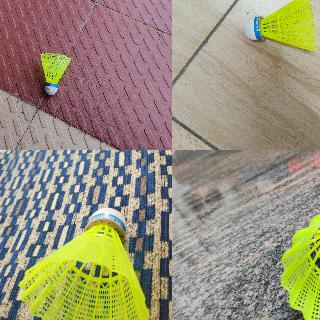shuttlecock: (18, 208, 150, 319), (280, 205, 319, 319), (242, 0, 317, 54), (40, 52, 70, 94)
